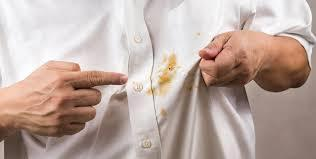coffee: (155, 52, 177, 95)
